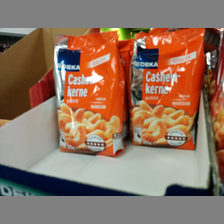nuts: (128, 29, 206, 150), (53, 31, 125, 157)
